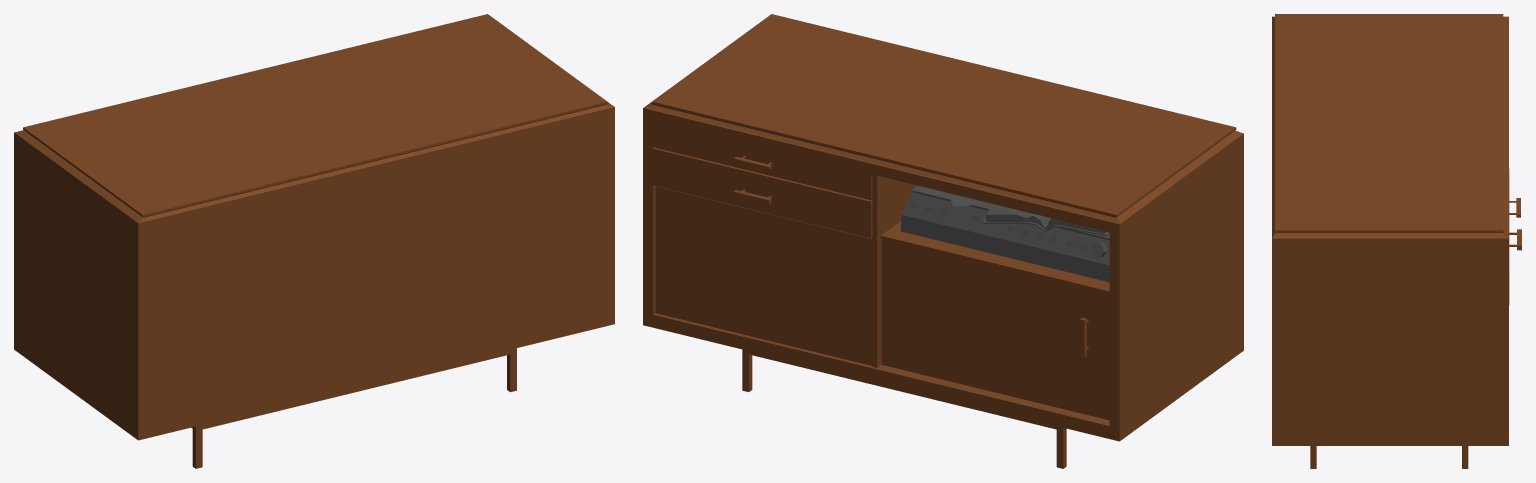
Rendered from S_MeubleTV.glb.
The picture shows the model from 3 angles, left to right: view 1: azimuth 30°, elevation 25°; view 2: azimuth 150°, elevation 25°; view 3: azimuth 270°, elevation 25°; orthographic projection. The views are drawn at different scales.
Parts seen in each view (by area): view 1: S_TVMeuble; view 2: S_TVMeuble, S_TVMeubleTiroirGrandDroite, S_TVMeubleTiroirGrandGauche, S_MusicPaperTVMeuble, S_TVMeubleTiroirBas, S_TVMeubleTiroirHaut; view 3: S_TVMeuble, S_TVMeubleTiroirBas.
Part boxes in pixels (x1,y1,x2,y2): S_TVMeuble: [14, 14, 614, 468]; S_TVMeuble: [643, 14, 1243, 468]; S_TVMeubleTiroirGrandDroite: [881, 239, 1109, 420]; S_TVMeubleTiroirGrandGauche: [655, 186, 872, 365]; S_MusicPaperTVMeuble: [900, 185, 1109, 282]; S_TVMeubleTiroirBas: [653, 148, 872, 238]; S_TVMeubleTiroirHaut: [653, 121, 872, 199]; S_TVMeuble: [1272, 14, 1508, 468]; S_TVMeubleTiroirBas: [1509, 169, 1521, 304].
Bounding box in the file's own units: 1.2 × 0.6831 × 0.5686.
